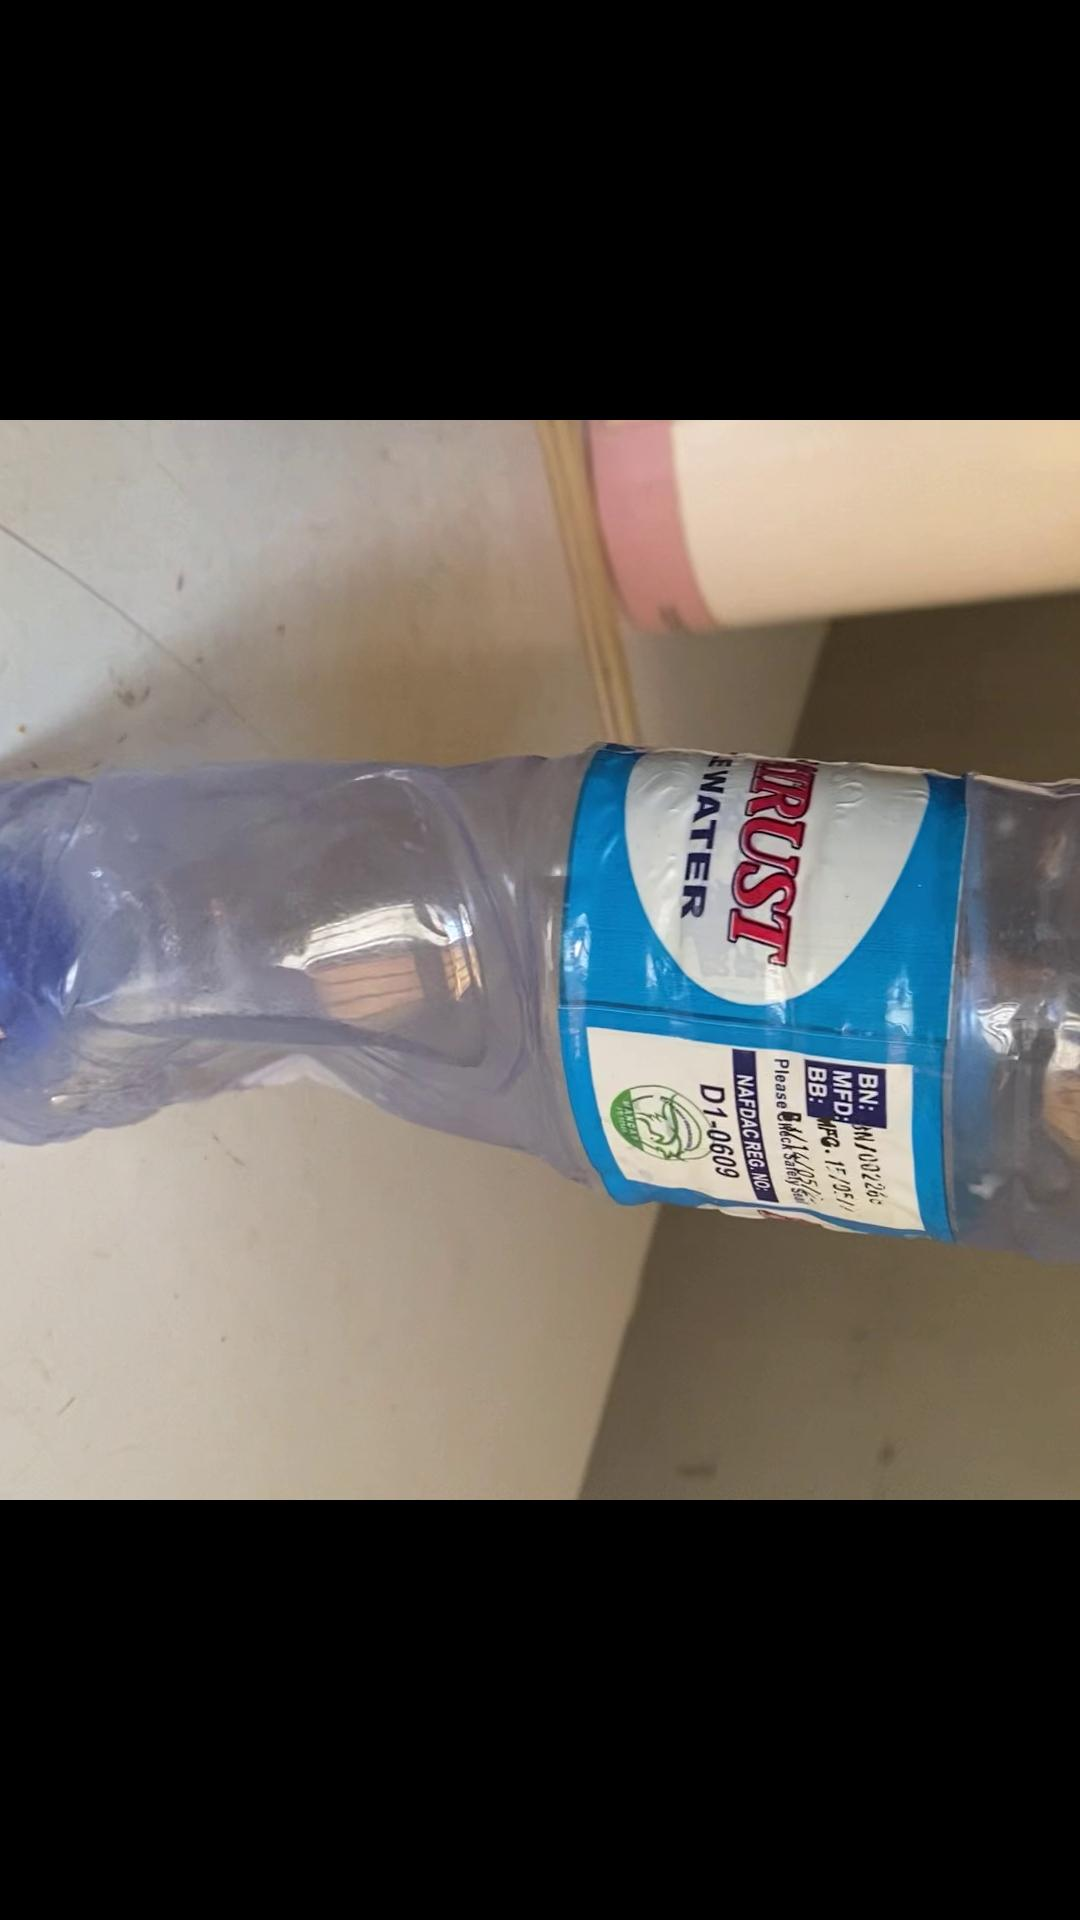crumbled: (0, 735, 1080, 1263)
label: (555, 767, 963, 1229)
